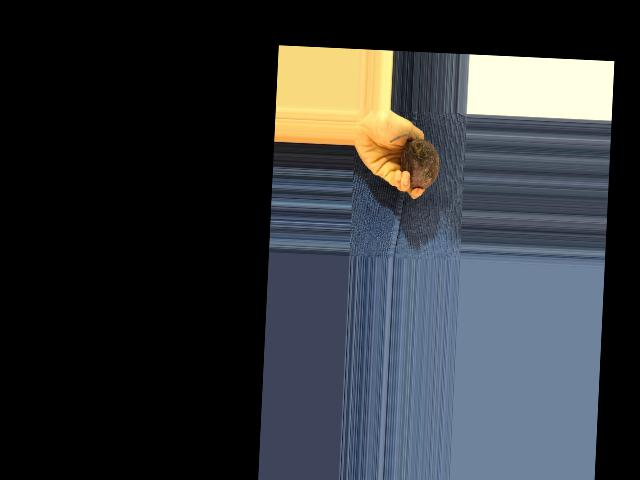beet: (386, 132, 440, 189)
